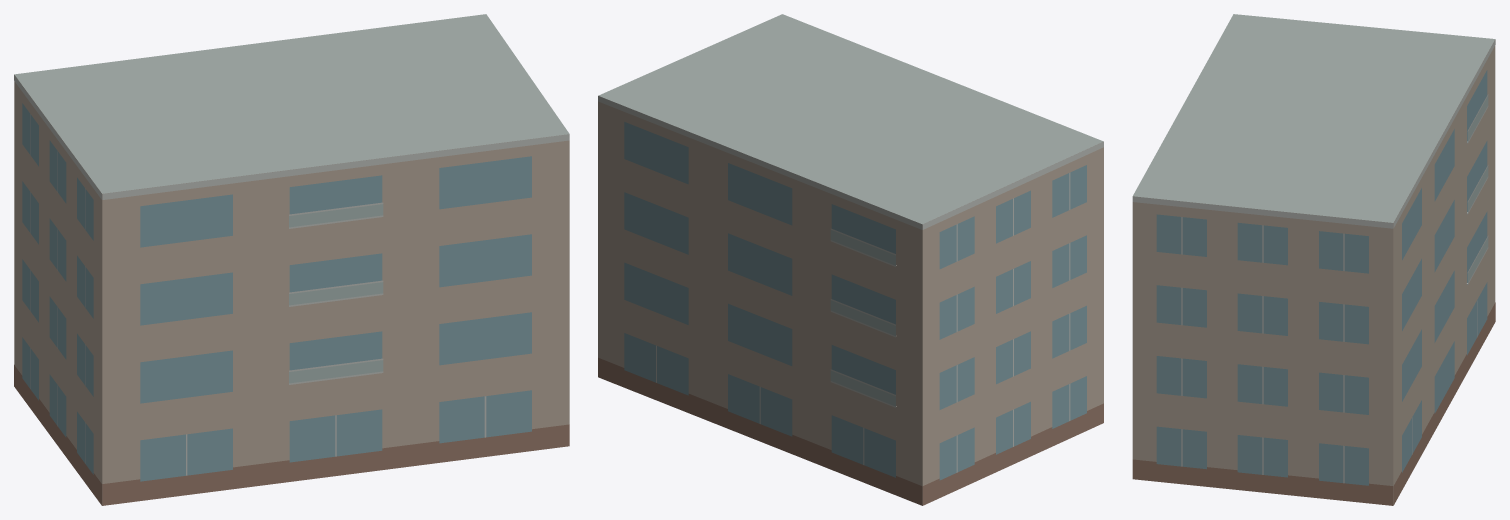
File: survey-upis-33023086.glb
The picture shows the model from 3 angles, left to right: view 1: azimuth 30°, elevation 25°; view 2: azimuth 150°, elevation 25°; view 3: azimuth 270°, elevation 25°; orthographic projection. The views are drawn at different scales.
Visible parts, largest first — view 1: survey-upis-33023086.tmp; view 2: survey-upis-33023086.tmp; view 3: survey-upis-33023086.tmp.
Boxes of the visible parts, x1,y1,x2,y2 form: survey-upis-33023086.tmp: [14, 14, 569, 505]; survey-upis-33023086.tmp: [598, 14, 1103, 505]; survey-upis-33023086.tmp: [1132, 14, 1495, 505].
Bounding box in the file's own units: 19.02 × 12 × 13.96.
